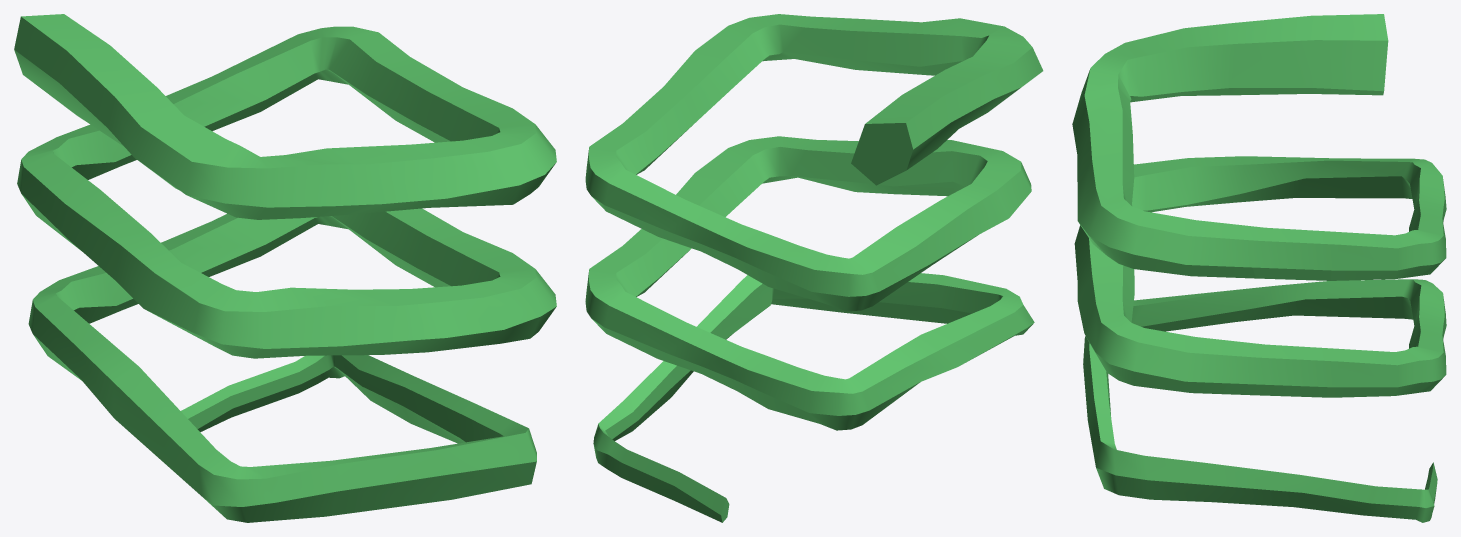
File: roots_solo_D_B.fbx
3 views of the same model, side by side, from view 1: azimuth 30°, elevation 25°; view 2: azimuth 150°, elevation 25°; view 3: azimuth 270°, elevation 25° (orthographic). The views are drawn at different scales.
Parts seen in each view (by area): view 1: roots_solo_D_B; view 2: roots_solo_D_B; view 3: roots_solo_D_B.
Boxes of the visible parts, left/top/right/bottom form: roots_solo_D_B: left=14, top=14, right=556, bottom=522; roots_solo_D_B: left=585, top=14, right=1043, bottom=522; roots_solo_D_B: left=1072, top=14, right=1446, bottom=522.
Bounding box in the file's own units: 84.89 × 101 × 85.81.
